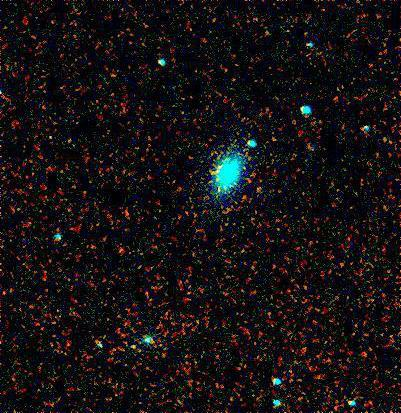star: (102, 239, 132, 269)
